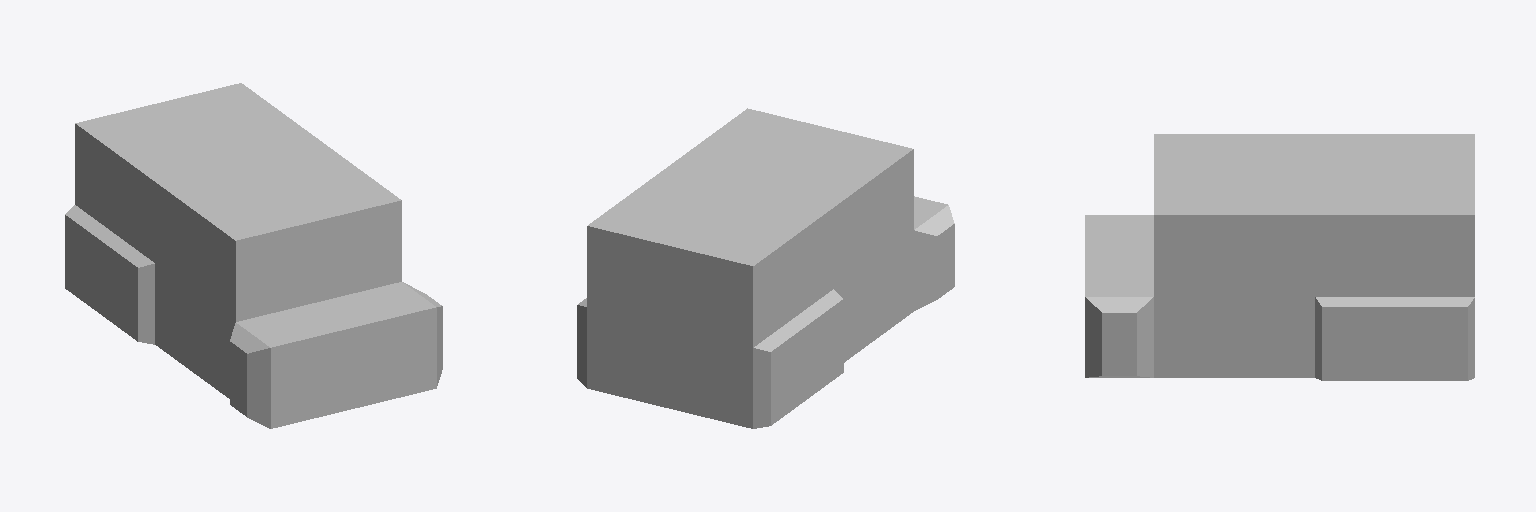
File: acar.obj
The picture shows the model from 3 angles: view 1: azimuth 30°, elevation 25°; view 2: azimuth 150°, elevation 25°; view 3: azimuth 270°, elevation 25°; orthographic projection.
Visible parts, largest first — view 1: acar_Cube.026; view 2: acar_Cube.026; view 3: acar_Cube.026.
Part boxes in pixels (x1,y1,x2,y2): acar_Cube.026: (65, 83, 442, 428); acar_Cube.026: (577, 108, 954, 428); acar_Cube.026: (1085, 134, 1474, 380).
Bounding box in the file's own units: 1.04 × 0.8258 × 1.8.